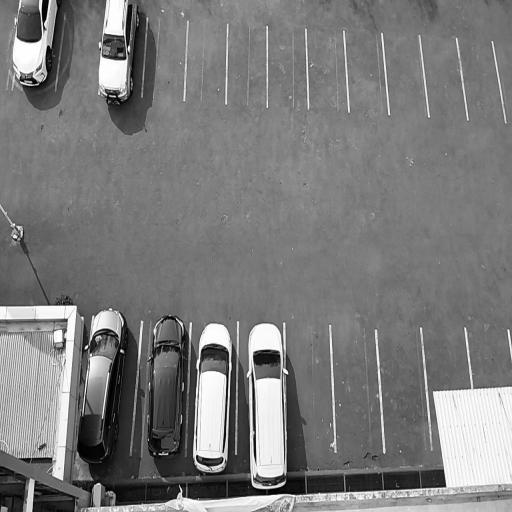Car: (73, 302, 132, 465), (242, 320, 294, 494), (187, 314, 239, 478), (141, 306, 190, 463), (8, 0, 65, 90), (95, 0, 142, 103)
Space Available: (376, 327, 431, 451), (330, 325, 384, 451), (285, 323, 336, 450), (55, 0, 104, 87), (456, 38, 506, 120), (420, 33, 468, 118), (142, 14, 188, 98), (382, 32, 429, 113), (345, 31, 390, 114), (184, 19, 227, 104), (306, 28, 349, 109), (227, 23, 268, 106), (267, 27, 309, 107), (421, 327, 472, 391), (466, 328, 512, 389), (493, 42, 512, 120)
